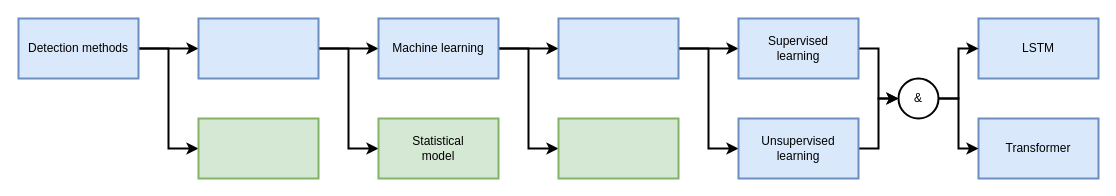
Image size: 1116x196. Some labels were removed from this diagram. Here are the shapes that lost their labels. From the top down, the box of each, then its label:
(197, 17, 319, 79): Anomaly detection
(557, 17, 679, 79): Deep learning model
(197, 117, 319, 179): Misuse detection
(557, 117, 679, 179): Shallow model
